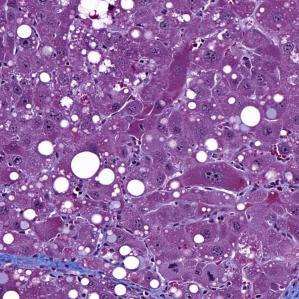fibrosis: (7, 250, 99, 281)
